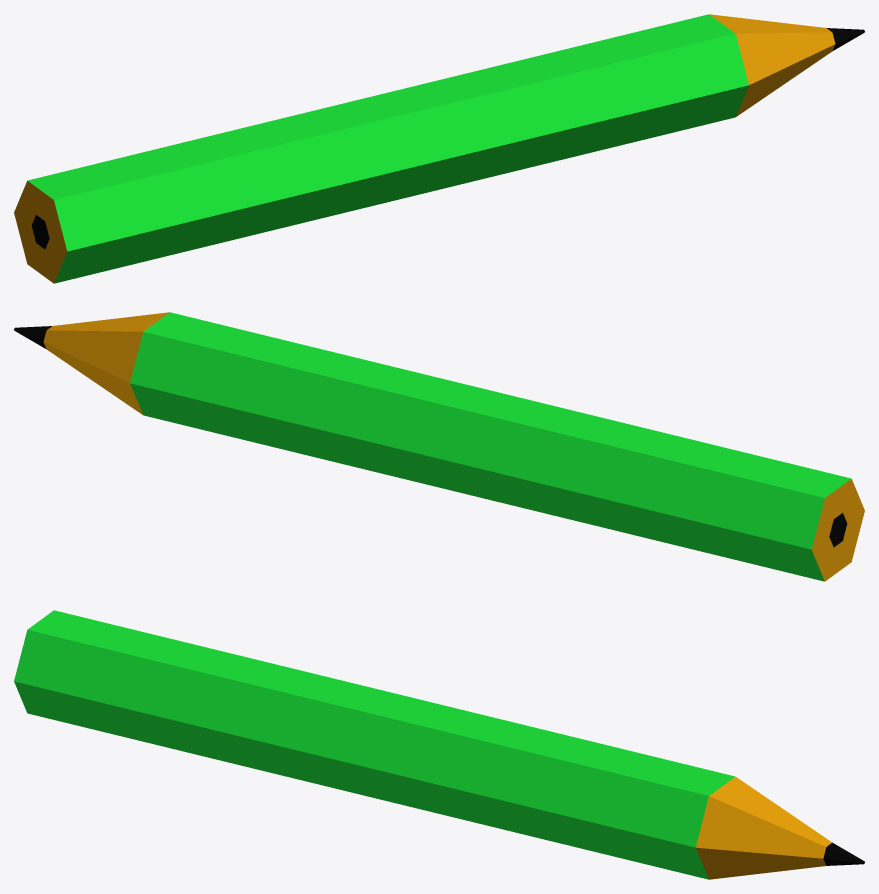
The picture shows the model from 3 angles, top to bottom: view 1: azimuth 30°, elevation 25°; view 2: azimuth 150°, elevation 25°; view 3: azimuth 330°, elevation 25°; orthographic projection.
Visible parts, largest first — view 1: 円; view 2: 円; view 3: 円.
Part boxes in pixels (<box>): 円: <box>14,14,864,283</box>; 円: <box>14,312,864,581</box>; 円: <box>14,610,864,879</box>.
Size of the model in its own units: 1784 by 173 by 200.
